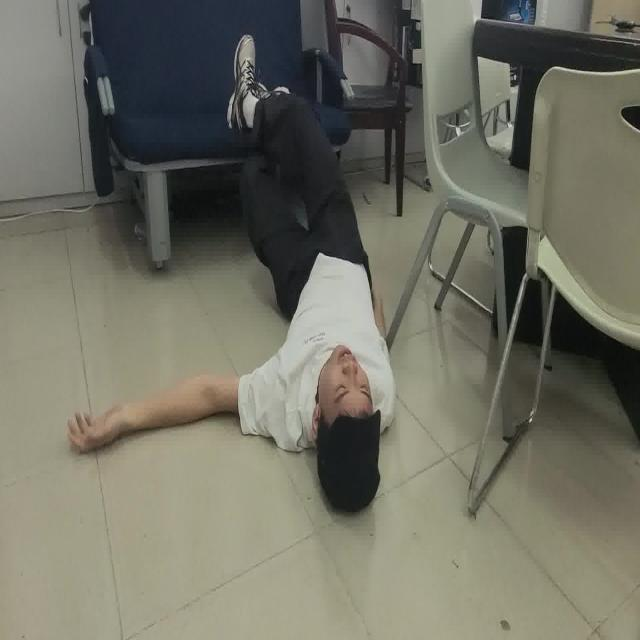Fall: (66, 38, 399, 519)
